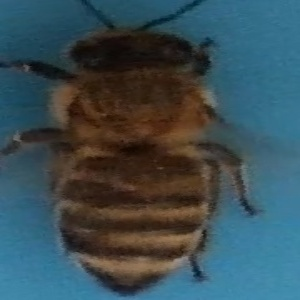bee: (5, 6, 267, 296)
